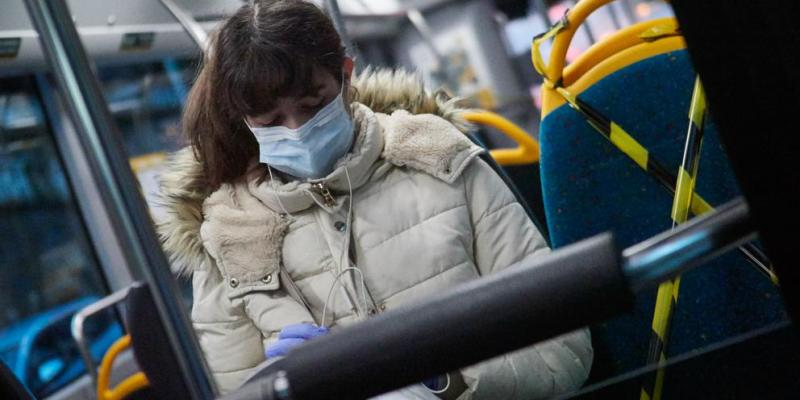with_mask: (220, 28, 362, 180)
